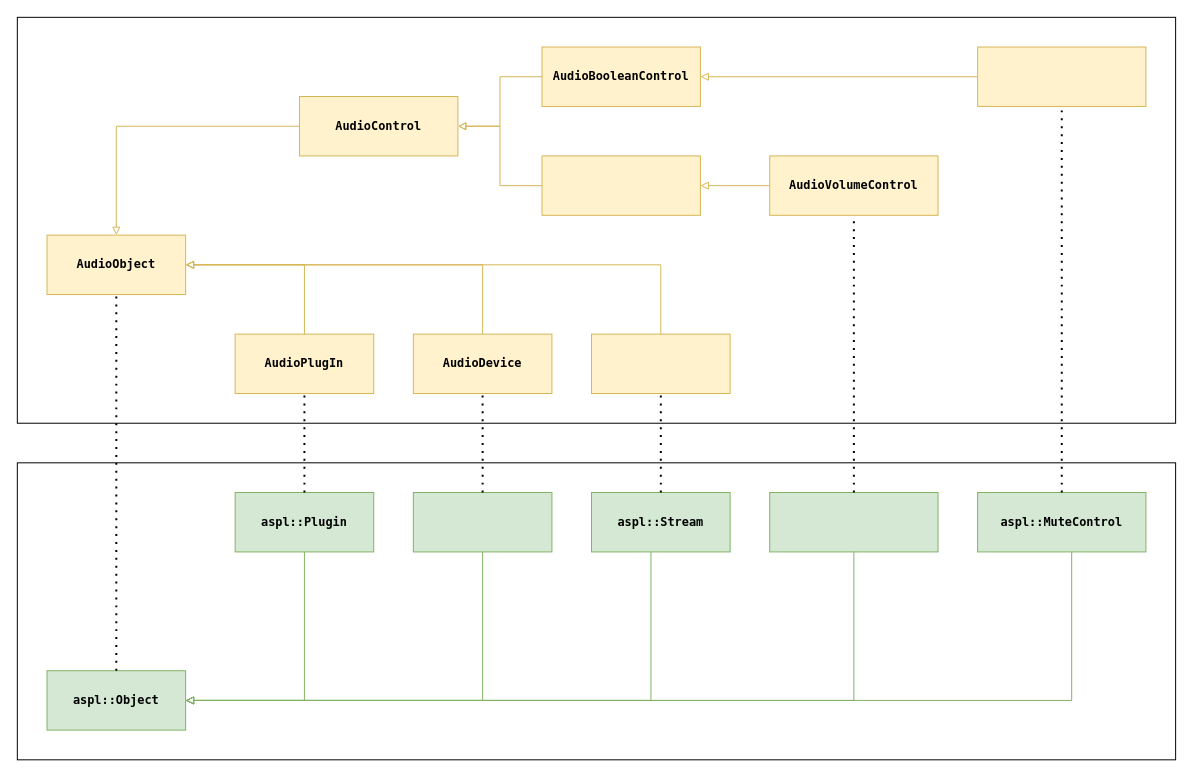
Some shapes in this 1193 by 777 pixel diagram are drawn without their labels. Here are the shapes that lost their labels. From the top down, the centre of each, then its label:
At pixel 1061 76: "AudioMuteControl".
At pixel 620 185: "AudioLevelControl".
At pixel 660 363: "AudioStream".
At pixel 482 522: "aspl::Device".
At pixel 853 522: "aspl::VolumeControl".
